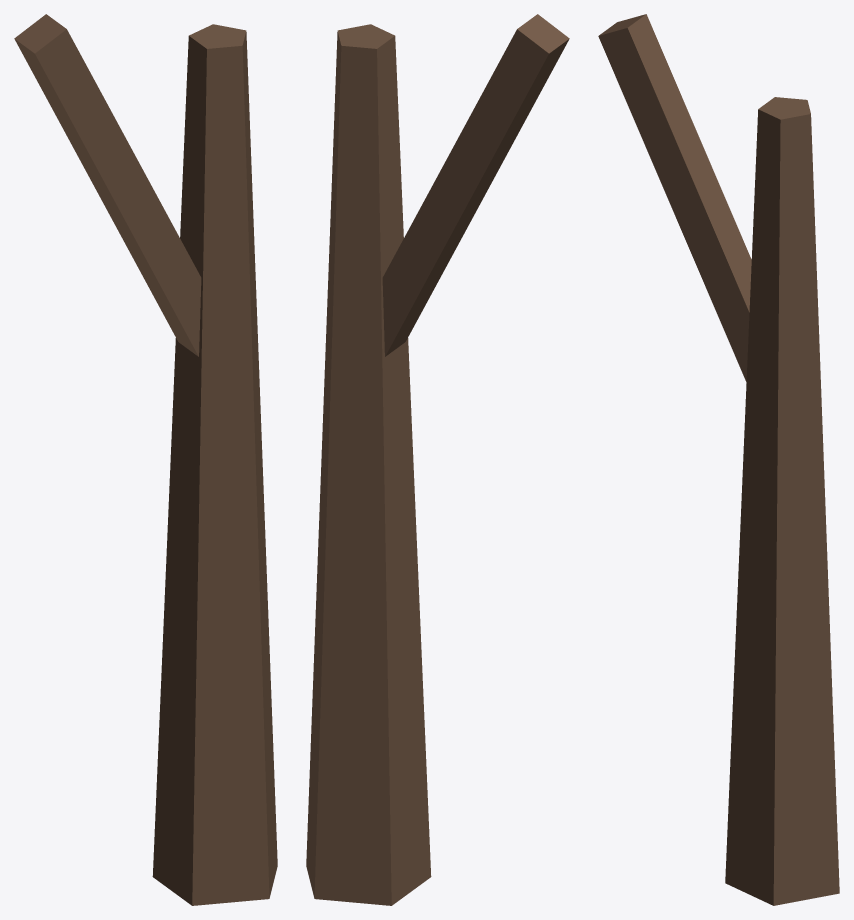
Rendered from Kit_InfernalCaldera_Tree_LOD1.glb.
3 views of the same model, side by side, from view 1: azimuth 30°, elevation 25°; view 2: azimuth 150°, elevation 25°; view 3: azimuth 330°, elevation 25° (orthographic). The views are drawn at different scales.
Visible parts, largest first — view 1: Kit_InfernalCaldera_Tree_LOD1_Warm timber_-1_0; view 2: Kit_InfernalCaldera_Tree_LOD1_Warm timber_-1_0; view 3: Kit_InfernalCaldera_Tree_LOD1_Warm timber_-1_0.
Part boxes in pixels (bbox=[...]): Kit_InfernalCaldera_Tree_LOD1_Warm timber_-1_0: bbox=[14, 14, 277, 905]; Kit_InfernalCaldera_Tree_LOD1_Warm timber_-1_0: bbox=[306, 14, 569, 905]; Kit_InfernalCaldera_Tree_LOD1_Warm timber_-1_0: bbox=[598, 14, 839, 905].
Bounding box in the file's own units: 5.66 × 19.18 × 2.47.
